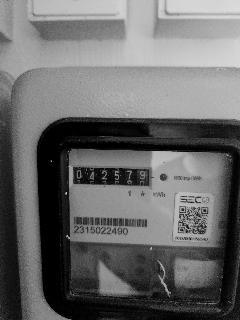1: (77, 170, 81, 178)
3: (102, 171, 106, 179)
5: (90, 172, 94, 180)
6: (115, 171, 120, 179)
8: (128, 171, 133, 179)
:: (141, 171, 145, 179)
